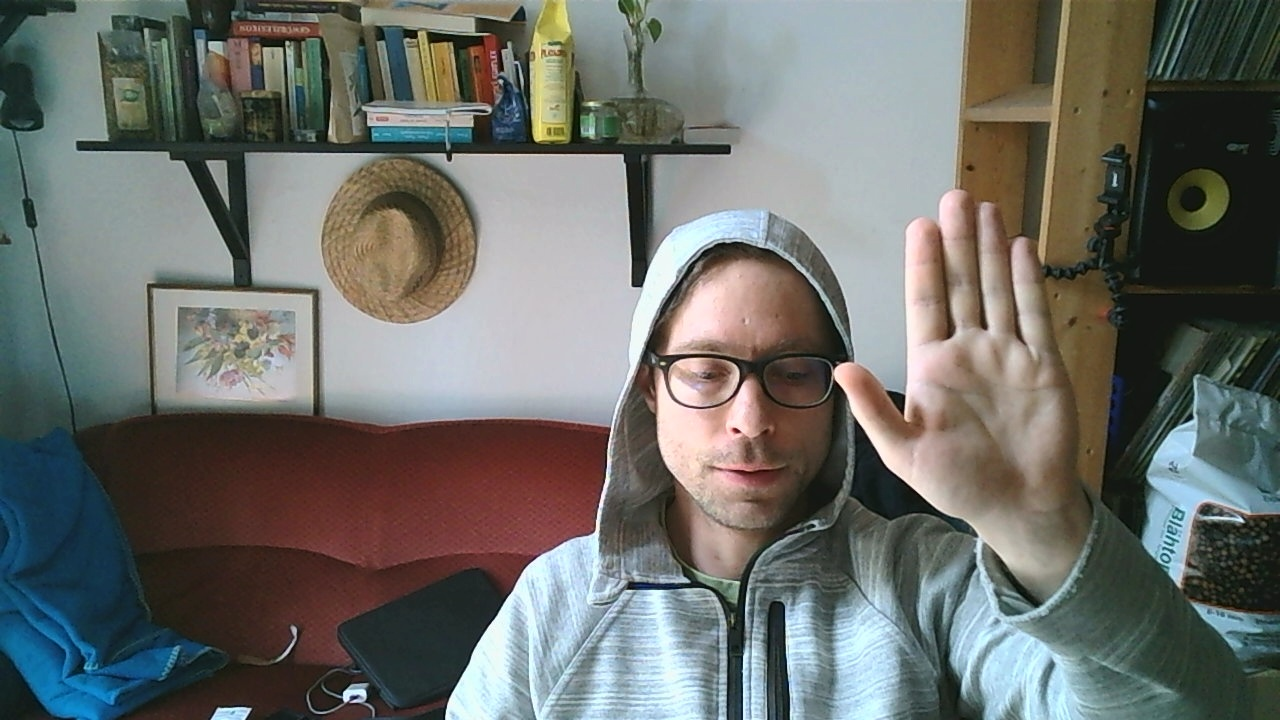hello: (829, 188, 1081, 520)
